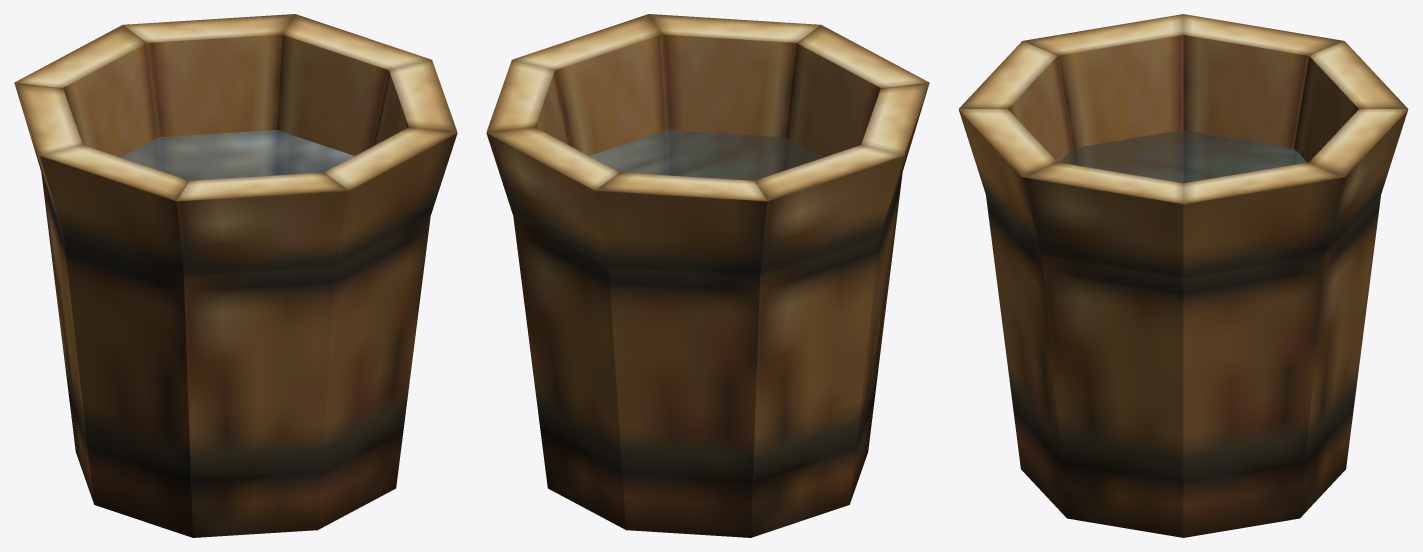
Rendered from Poly_Bucket_02.obj.
3 renders of one model, left to right at view 1: azimuth 30°, elevation 25°; view 2: azimuth 150°, elevation 25°; view 3: azimuth 270°, elevation 25°, orthographic.
Parts seen in each view (by area): view 1: Plane, Plane.001; view 2: Plane, Plane.001; view 3: Plane, Plane.001.
Part boxes in pixels (<box>): Plane: <box>14,14,457,537</box>; Plane.001: <box>121,130,353,180</box>; Plane: <box>486,14,929,537</box>; Plane.001: <box>590,130,822,180</box>; Plane: <box>958,14,1408,537</box>; Plane.001: <box>1060,129,1306,183</box>.
Size of the model in its own units: 0.5655 by 0.4995 by 0.5655.
2 materials, 2 textured.
